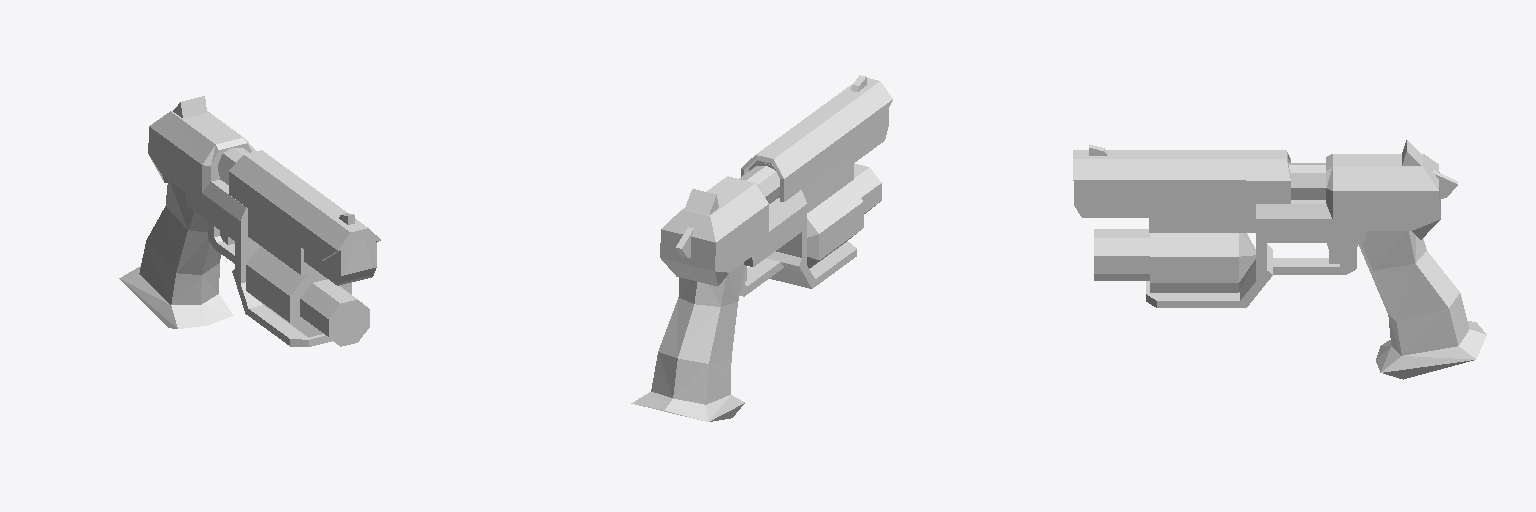
The model's file is WpnFoxBlaster.obj.
3 renders of one model, left to right at view 1: azimuth 30°, elevation 25°; view 2: azimuth 150°, elevation 25°; view 3: azimuth 270°, elevation 25°, orthographic.
Visible parts, largest first — view 1: polygon0, polygon4; view 2: polygon0, polygon4; view 3: polygon0, polygon4.
Boxes of the visible parts, box(x1,y1,x2,y2) form: polygon0: box(119, 96, 380, 346); polygon4: box(304, 238, 376, 285); polygon0: box(631, 78, 892, 421); polygon4: box(749, 109, 888, 197); polygon0: box(1073, 140, 1486, 379); polygon4: box(1074, 181, 1148, 217).
Size of the model in its own units: 1.09 by 3 by 5.07.